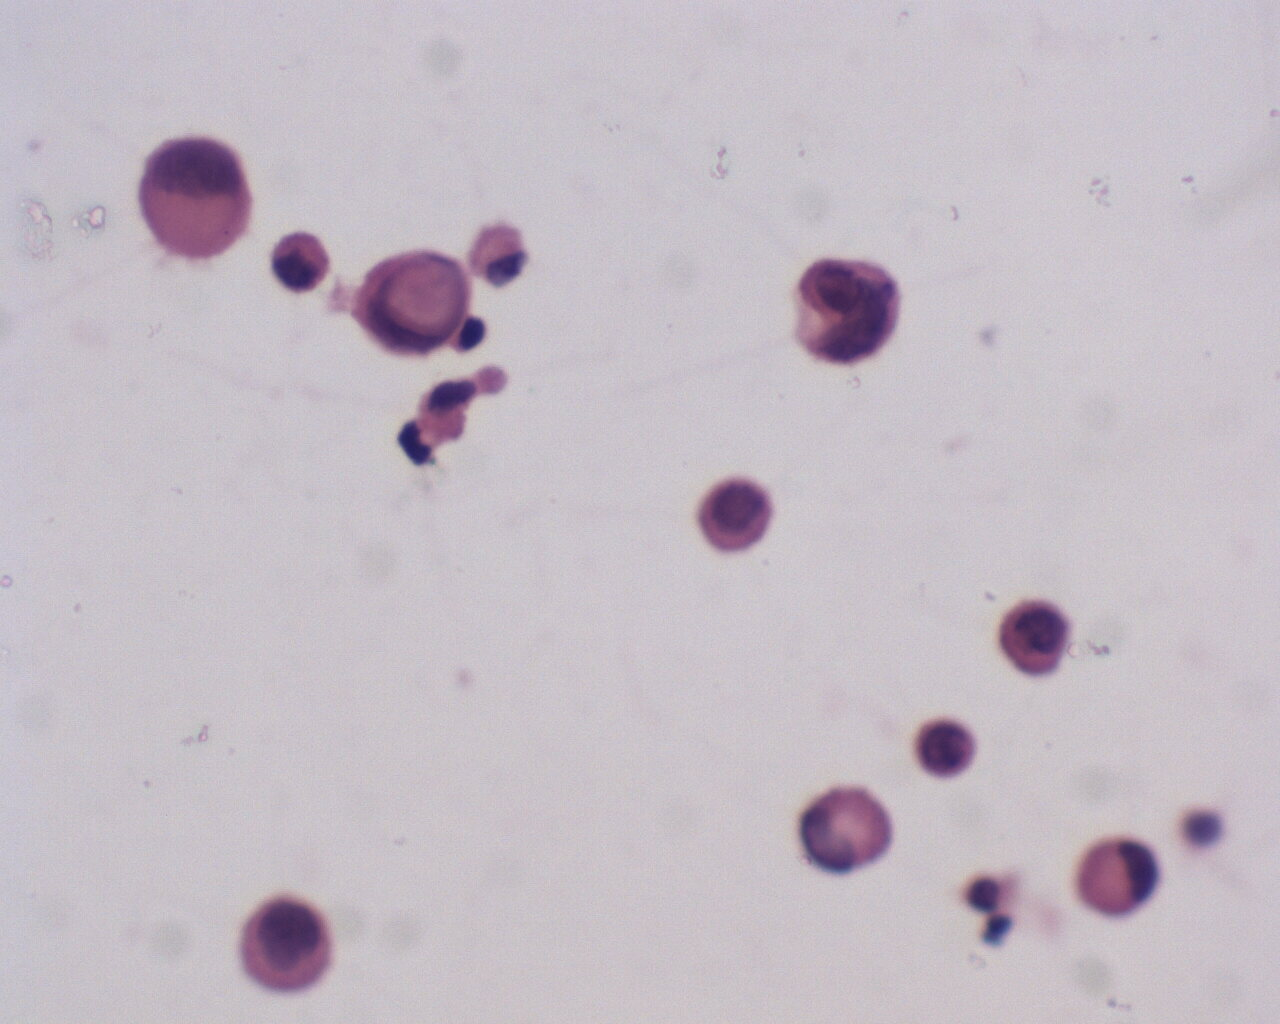ab: (134, 129, 254, 273), (240, 897, 340, 996), (993, 597, 1075, 684), (697, 473, 776, 552), (913, 715, 984, 779)
histo: (348, 248, 469, 359), (1070, 833, 1170, 922)
